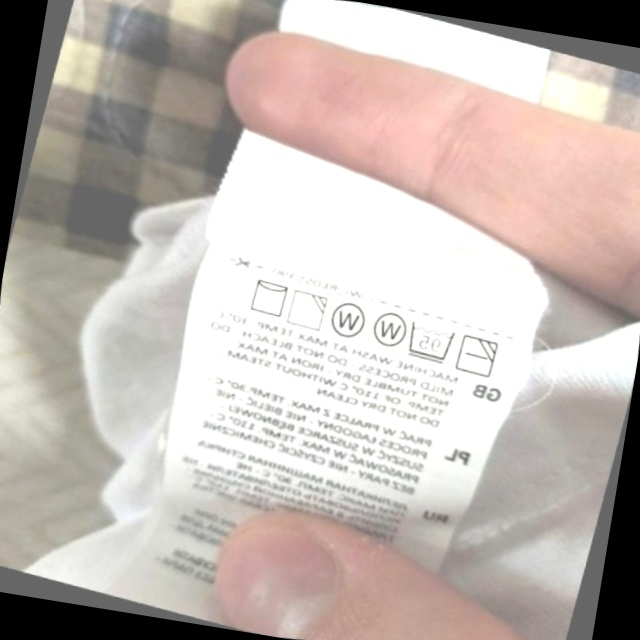95C: (398, 313, 462, 371)
dry_flat_in_shade: (449, 326, 506, 385)
line_dry: (241, 270, 296, 324)
shade_dry: (280, 282, 334, 337)
wet_clean: (363, 301, 415, 355), (322, 294, 374, 348)
